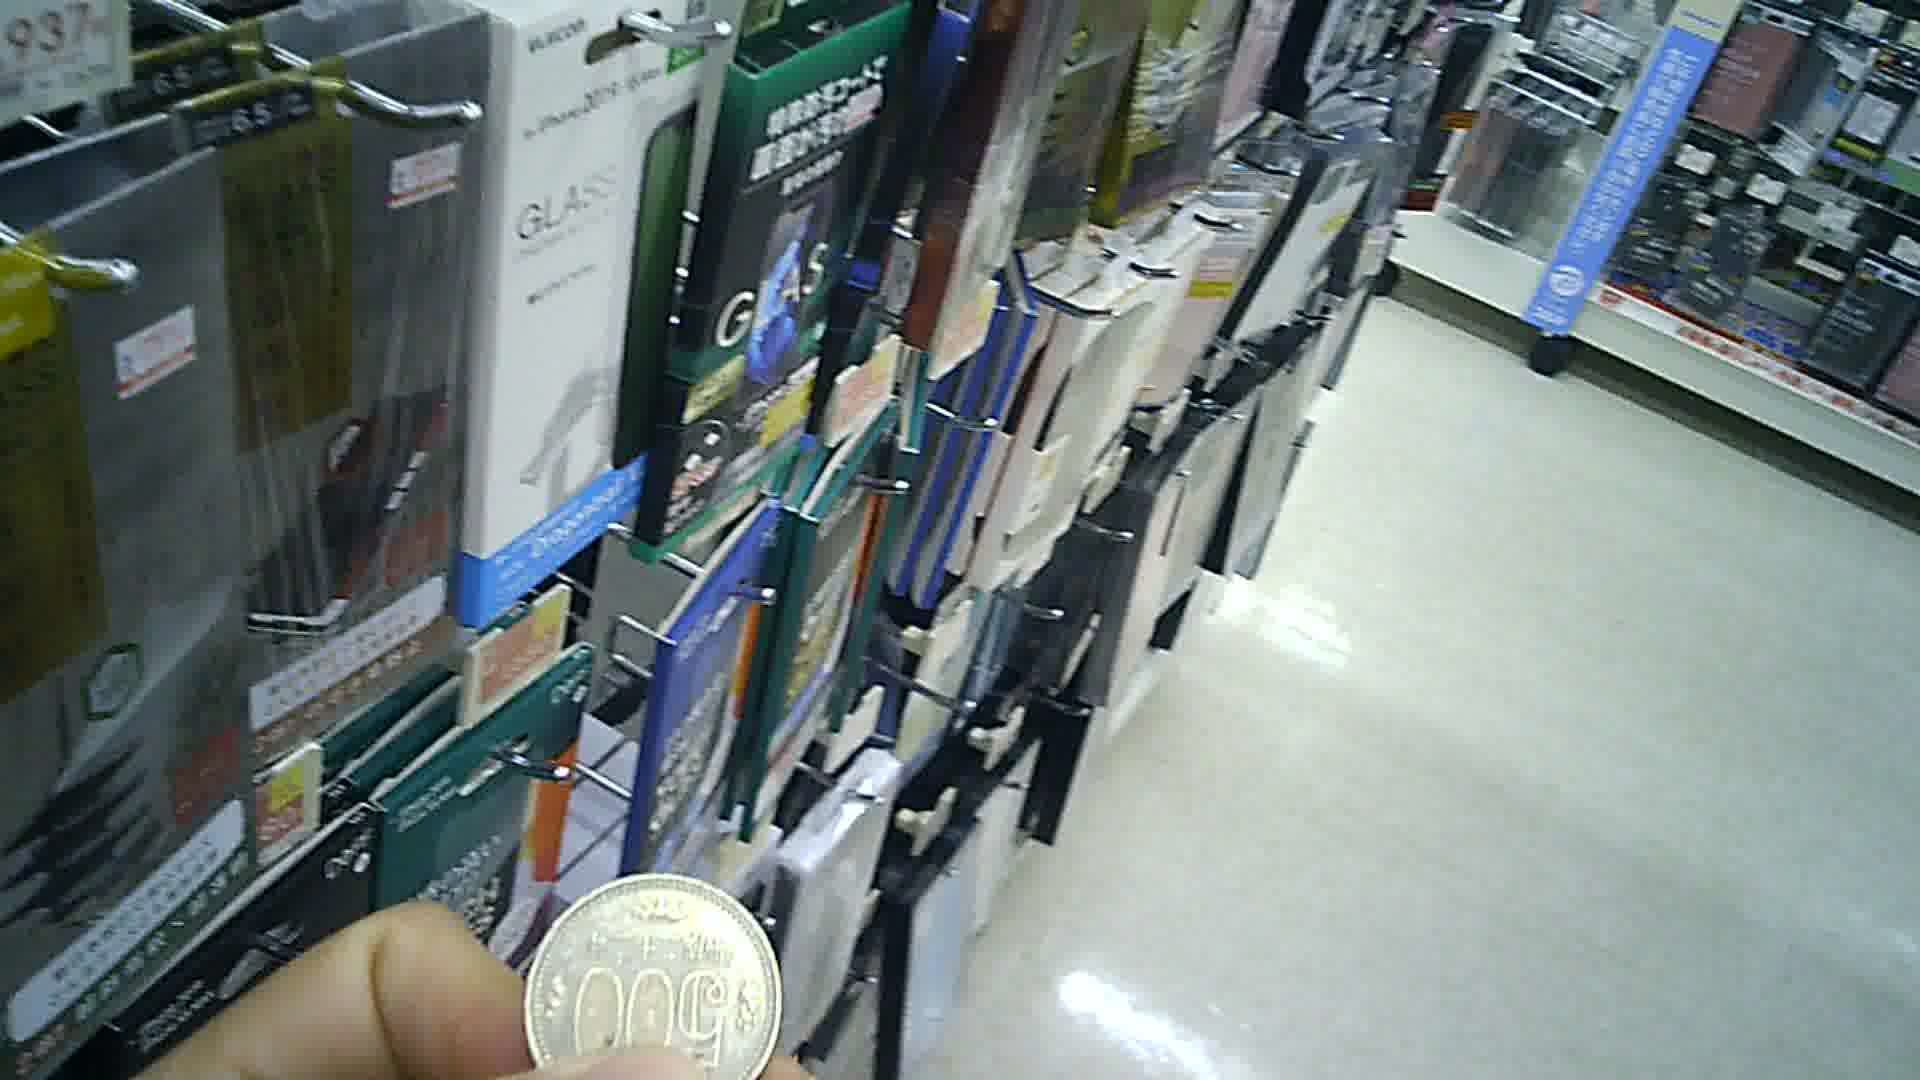500 Yen: (518, 872, 785, 1079)
